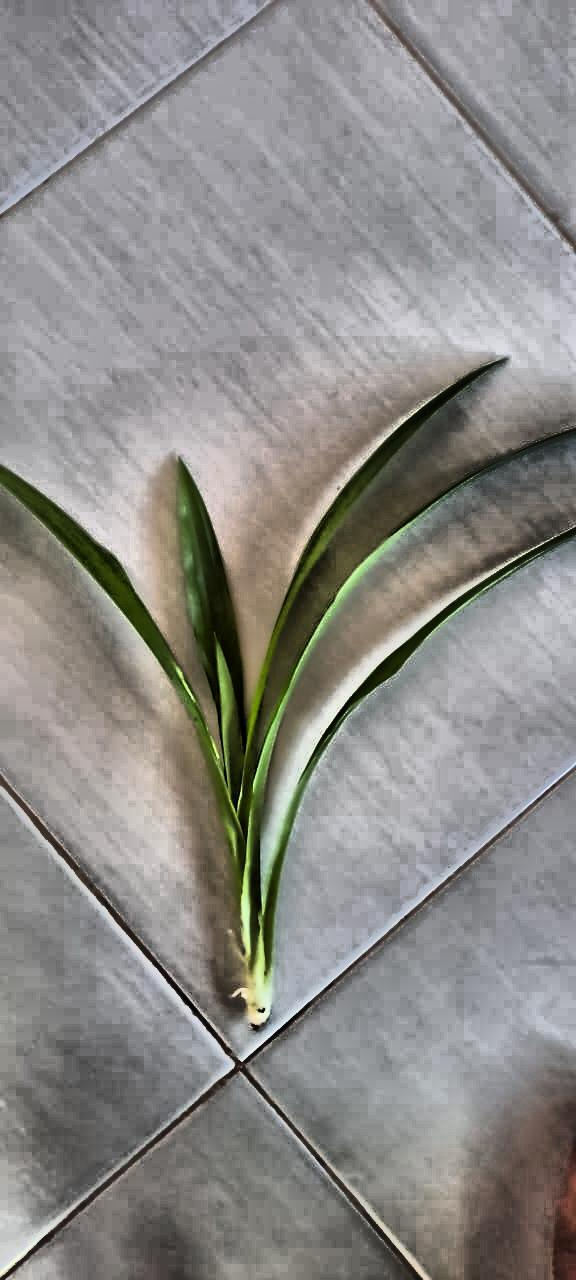daun pandan: (0, 361, 575, 1028)
